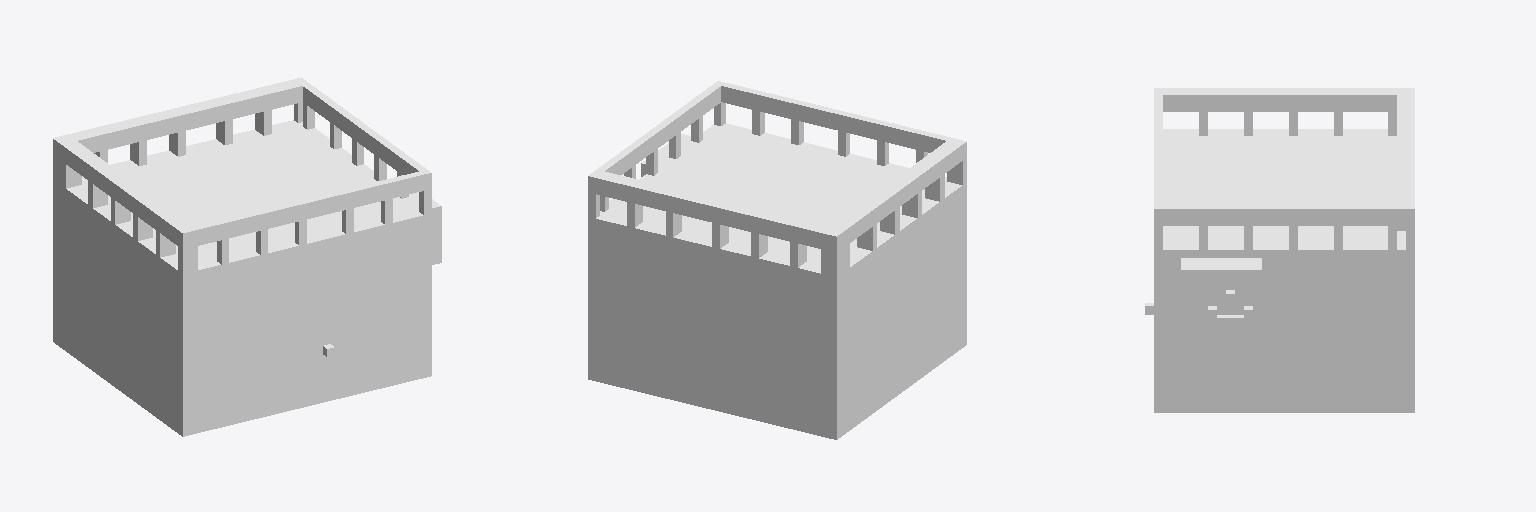
Rendered from house_2colour.obj.
3 renders of one model, left to right at view 1: azimuth 30°, elevation 25°; view 2: azimuth 150°, elevation 25°; view 3: azimuth 270°, elevation 25°, orthographic.
Parts seen in each view (by area): view 1: house_2colour; view 2: house_2colour; view 3: house_2colour.
Part boxes in pixels (left/top/right/bottom): house_2colour: left=53, top=77, right=441, bottom=436; house_2colour: left=588, top=81, right=966, bottom=439; house_2colour: left=1145, top=88, right=1414, bottom=412.
Size of the model in its own units: 35 by 25 by 30.